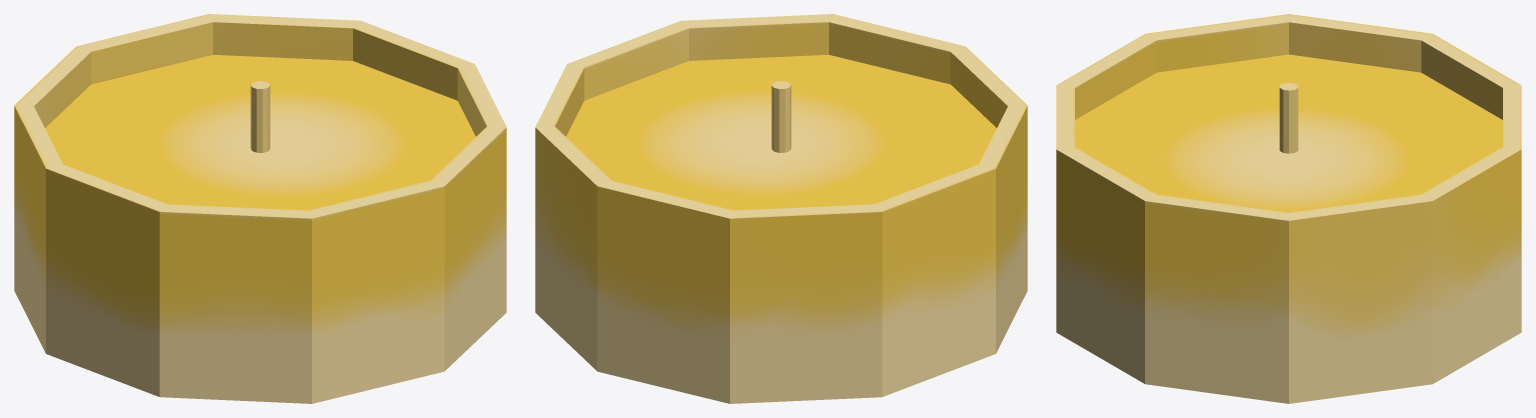
File: Candle3_Model.fbx
3 renders of one model, left to right at view 1: azimuth 30°, elevation 25°; view 2: azimuth 150°, elevation 25°; view 3: azimuth 270°, elevation 25°, orthographic.
Visible parts, largest first — view 1: Candle3; view 2: Candle3; view 3: Candle3.
Part boxes in pixels (x1,y1,x2,y2): Candle3: [14, 14, 506, 403]; Candle3: [535, 14, 1027, 403]; Candle3: [1056, 14, 1521, 403].
Size of the model in its own units: 8.17 by 3.94 by 7.77.
